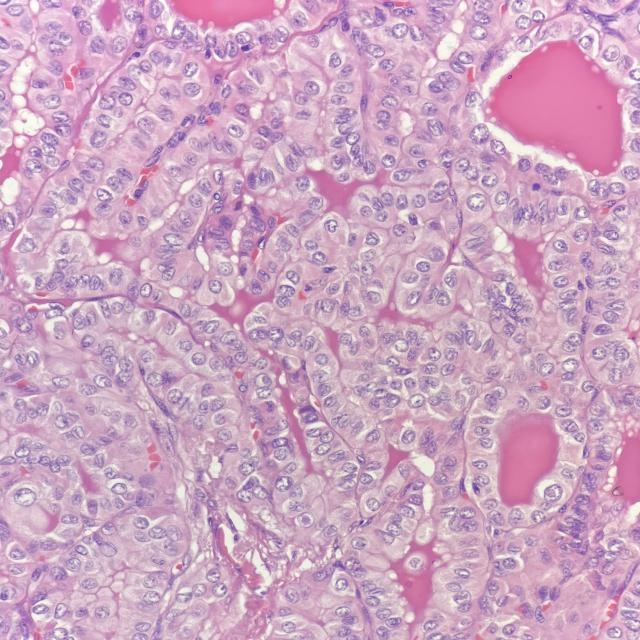TC: (297, 332, 326, 360), (201, 274, 230, 302), (184, 346, 212, 374), (418, 240, 453, 262), (386, 221, 413, 249), (393, 423, 419, 452), (307, 363, 338, 387), (357, 226, 386, 251), (243, 370, 277, 390), (323, 212, 345, 242), (553, 356, 583, 378), (389, 334, 413, 361), (404, 387, 427, 415), (312, 297, 340, 319), (272, 268, 304, 287), (307, 243, 330, 269), (395, 268, 423, 289), (436, 269, 464, 290), (377, 391, 406, 411), (354, 319, 378, 343), (550, 400, 578, 420), (160, 386, 183, 410), (469, 436, 499, 454), (465, 219, 496, 236), (271, 295, 298, 314), (429, 291, 452, 313), (363, 287, 384, 310), (462, 326, 479, 349), (282, 223, 306, 239), (336, 411, 355, 431), (204, 316, 220, 337), (256, 267, 270, 286)
